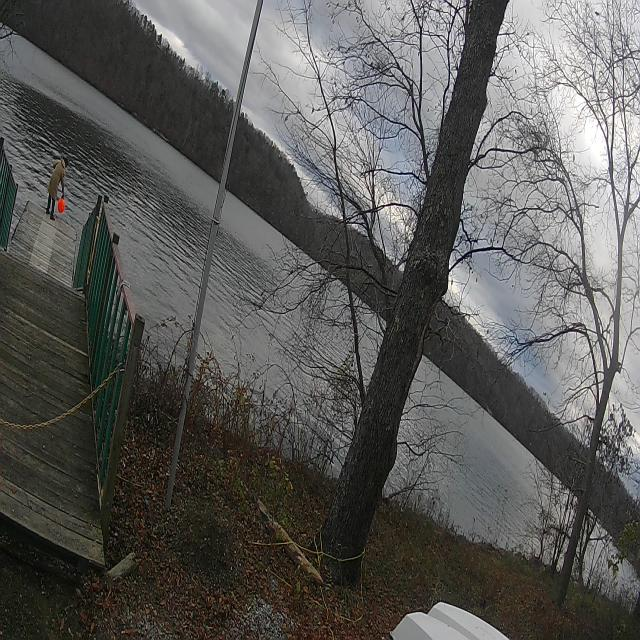Buoy: (55, 194, 67, 217)
